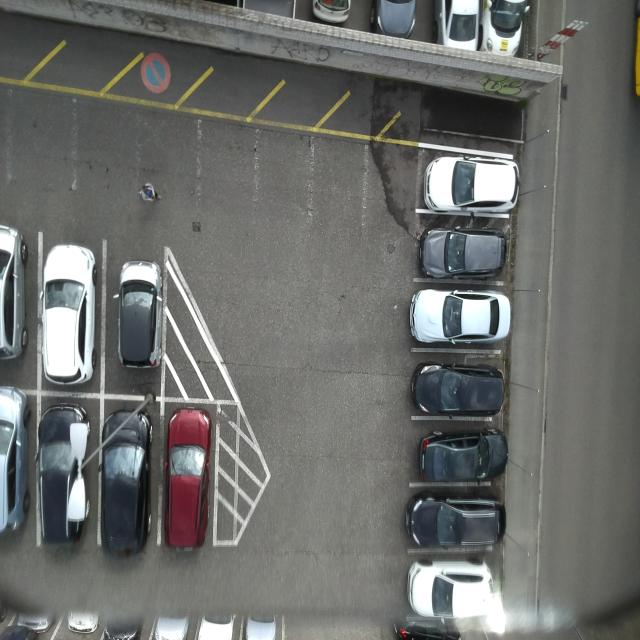car: (41, 243, 101, 391), (99, 402, 155, 555), (39, 398, 89, 556), (164, 403, 215, 555), (408, 287, 513, 354), (116, 255, 166, 383), (424, 155, 522, 217), (404, 559, 500, 622), (404, 496, 508, 554), (410, 360, 508, 420), (421, 427, 511, 488), (419, 229, 509, 285)
